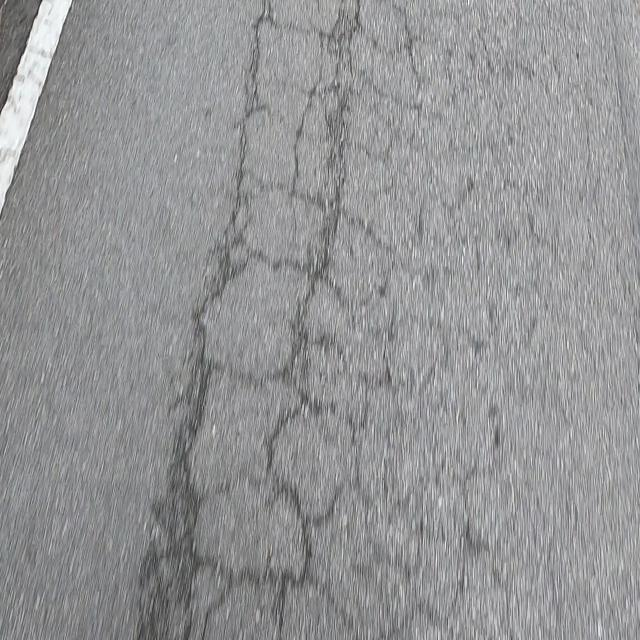Retak-Buaya: (142, 0, 423, 640)
